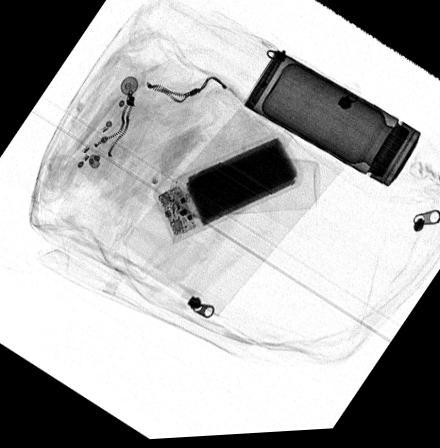Powerbank: (151, 135, 303, 244)
